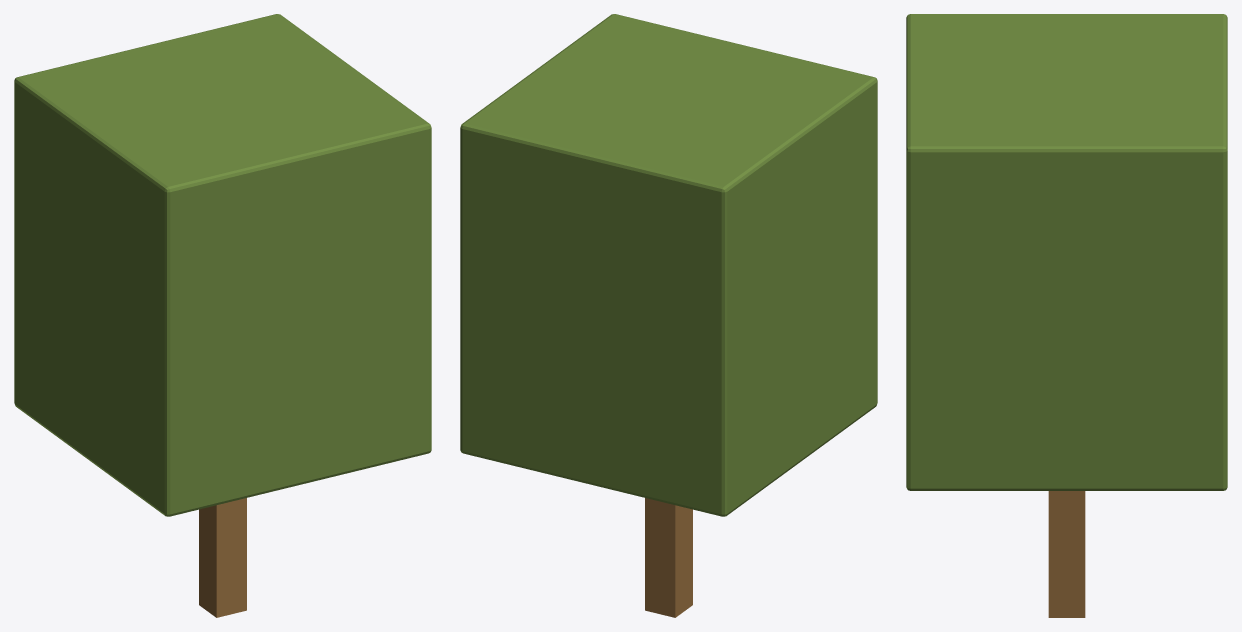
The model's file is alc_tree_b.glb.
3 views of the same model, side by side, from view 1: azimuth 30°, elevation 25°; view 2: azimuth 150°, elevation 25°; view 3: azimuth 270°, elevation 25° (orthographic). The views are drawn at different scales.
Visible parts, largest first — view 1: alc_tree_b; view 2: alc_tree_b; view 3: alc_tree_b.
Boxes of the visible parts, box(x1,y1,x2,y2) form: alc_tree_b: box(14, 14, 431, 617); alc_tree_b: box(460, 14, 877, 617); alc_tree_b: box(906, 14, 1227, 617).
Bounding box in the file's own units: 2.2 × 4 × 2.2.
